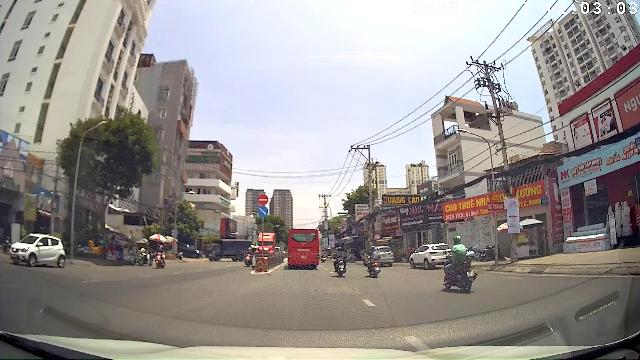102-cam-di-nguoc-chieu: (258, 195, 268, 206)
302a-huong-phai-di-vong-chuong-ngai-vat-1: (258, 206, 268, 216)
